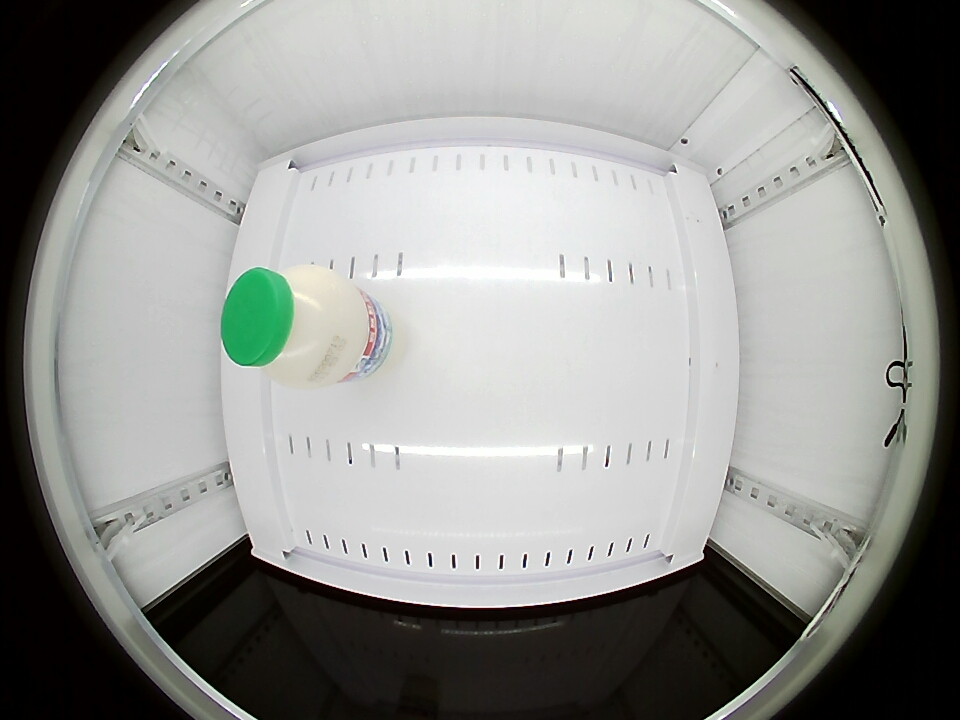liziyuan: (221, 264, 370, 389)
